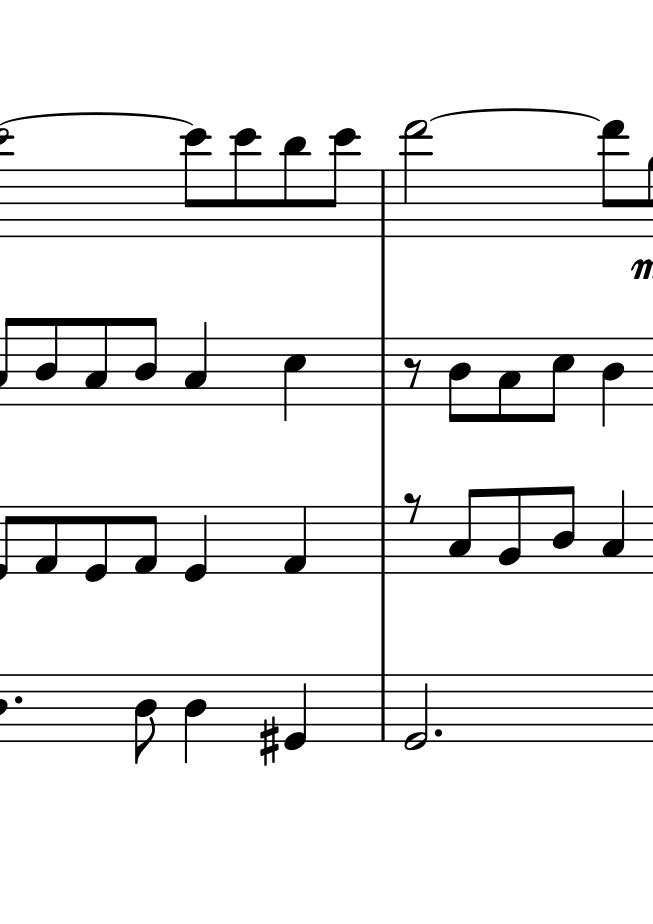2_0: (402, 671, 430, 753)
2_13: (400, 119, 432, 238)
4_0: (180, 505, 210, 584), (282, 672, 307, 753)
4_1: (280, 505, 310, 574)
4_3: (600, 487, 628, 575), (183, 320, 208, 410)
4_4: (600, 336, 627, 430), (183, 672, 208, 767)
4_5: (281, 336, 309, 426)
8_0: (81, 504, 111, 584)
8_1: (31, 503, 60, 576), (132, 505, 160, 577)
8_11: (280, 136, 312, 238)
8_12: (325, 128, 362, 239), (233, 126, 263, 239), (182, 128, 213, 236)
8_13: (596, 120, 630, 241)
8_2: (498, 486, 523, 577)
8_3: (447, 488, 482, 575), (82, 316, 110, 408), (497, 336, 521, 425)
8_4: (33, 317, 61, 407), (446, 337, 474, 426), (131, 672, 157, 767), (133, 316, 159, 408), (552, 484, 577, 575)
8_5: (542, 337, 575, 424)
Rests8: (400, 354, 425, 392), (400, 491, 425, 524)
Sharp: (257, 714, 281, 764)
Single_barline: (373, 506, 391, 574), (373, 338, 391, 406), (375, 674, 392, 741), (375, 169, 391, 238)
Slur: (428, 107, 605, 122)
dot: (431, 724, 445, 740), (12, 694, 25, 706)
